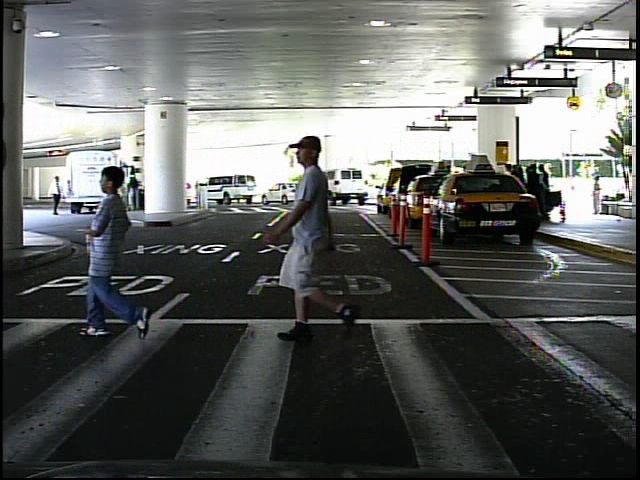person: (277, 124, 372, 347), (80, 156, 166, 345), (48, 171, 66, 221), (588, 172, 607, 218)
